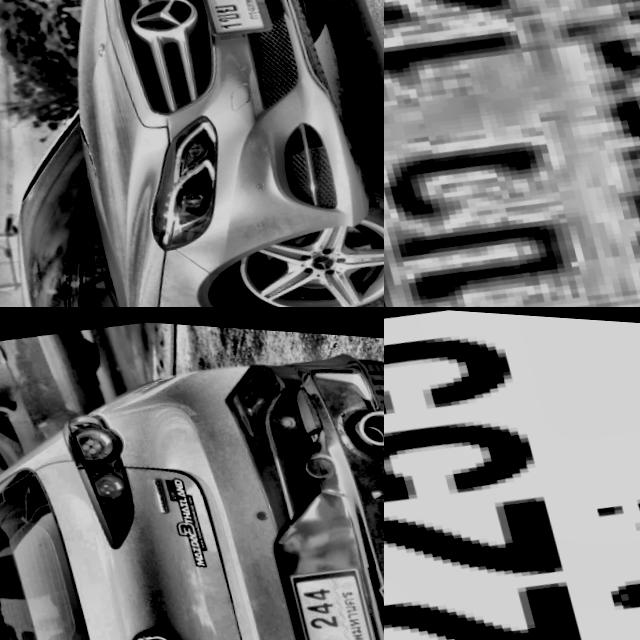license-plate: (384, 307, 640, 640), (384, 0, 640, 307), (282, 557, 382, 640), (192, 0, 267, 38)
